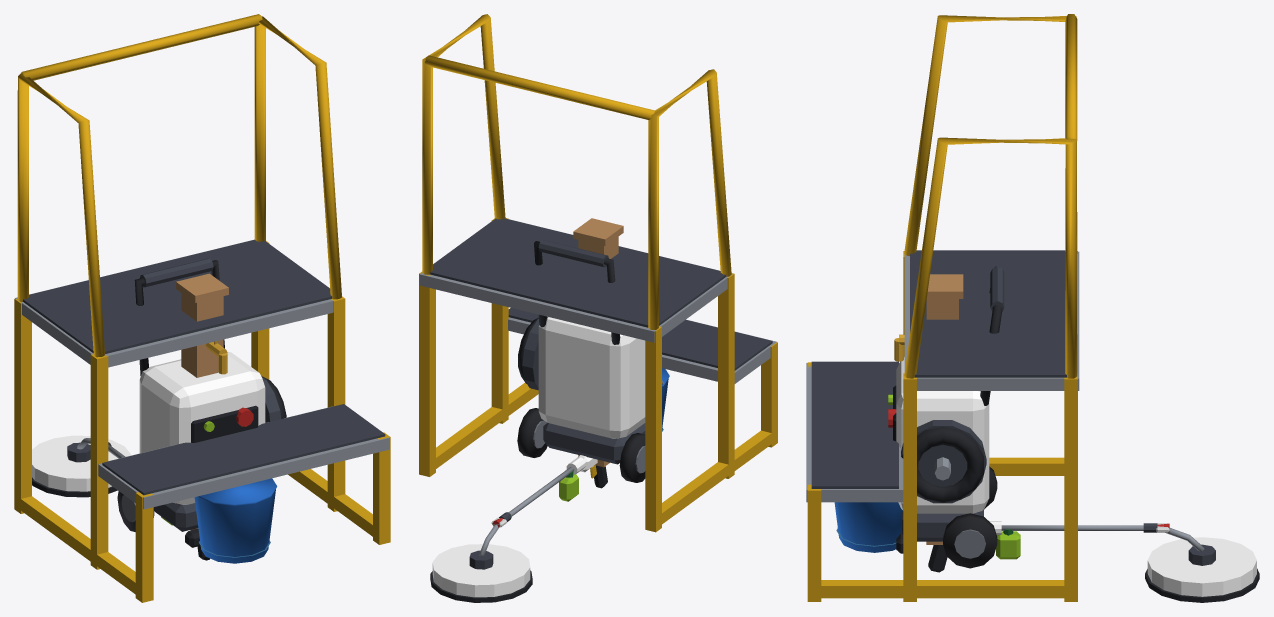
The model's file is washer.glb.
3 renders of one model, left to right at view 1: azimuth 30°, elevation 25°; view 2: azimuth 150°, elevation 25°; view 3: azimuth 270°, elevation 25°, orthographic. The views are drawn at different scales.
Parts seen in each view (by area): view 1: pw_platform, pw_unit, pw_tap, disc; view 2: pw_platform, pw_unit, disc, pw_tap, pw_gun; view 3: pw_platform, pw_unit, disc, pw_tap, pw_gun, soap.
Boxes of the visible parts, x1,y1,x2,y2 form: pw_platform: (14,14,390,602); pw_unit: (117,258,286,547); pw_tap: (176,273,277,563); disc: (32,435,130,497); pw_platform: (419,14,777,532); pw_unit: (517,240,645,482); disc: (430,524,532,602); pw_tap: (573,218,669,467); pw_gun: (499,455,607,521); pw_platform: (806,14,1079,601); pw_unit: (888,266,1004,568); disc: (1145,528,1259,602); pw_tap: (834,274,963,552); pw_gun: (928,521,1157,572); soap: (996,529,1020,559).
Size of the model in its own units: 1.11 by 2.03 by 1.66.
